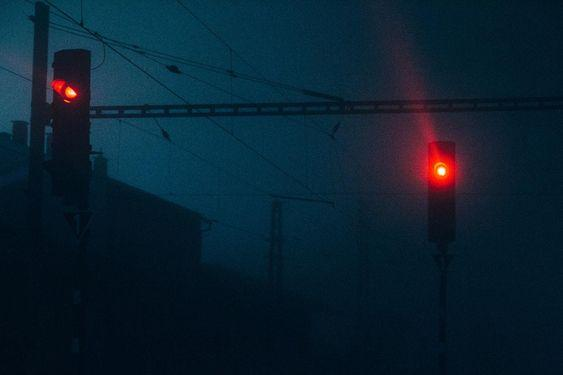red: (421, 135, 464, 240)
